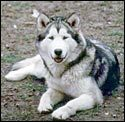dog: (2, 6, 123, 120)
